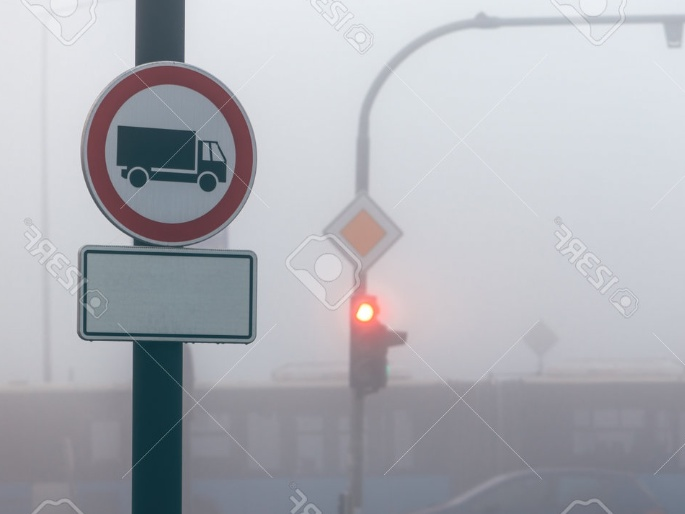Heavy Vehicles: (64, 56, 263, 253)
